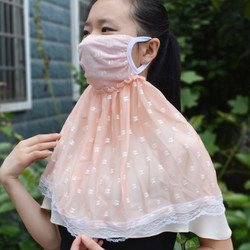face_mask: (79, 0, 140, 82)
